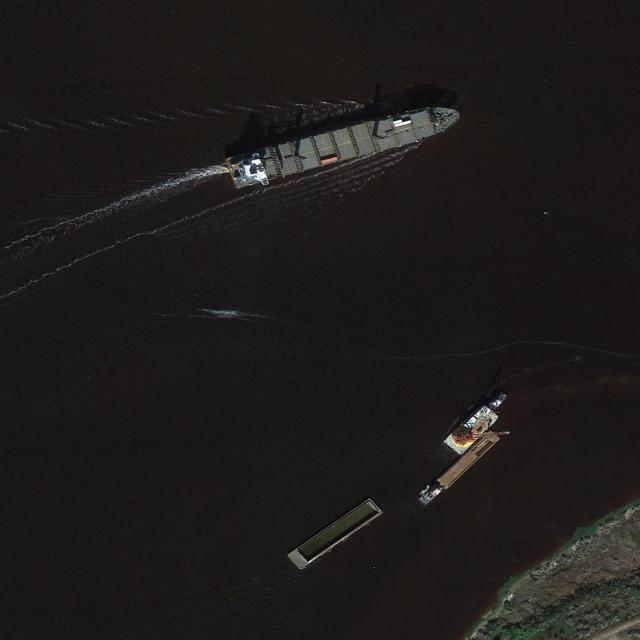Cargo: (222, 94, 465, 195)
